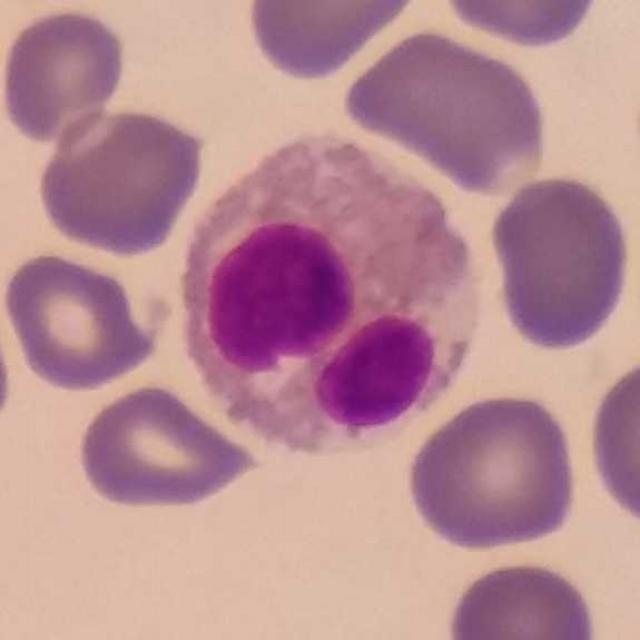eosino: (182, 130, 479, 460)
